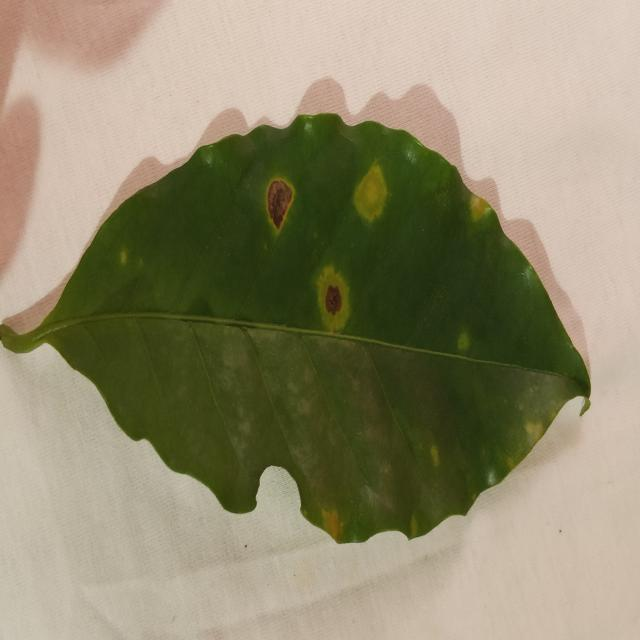Enfermedad-Roya: (0, 82, 592, 547)
